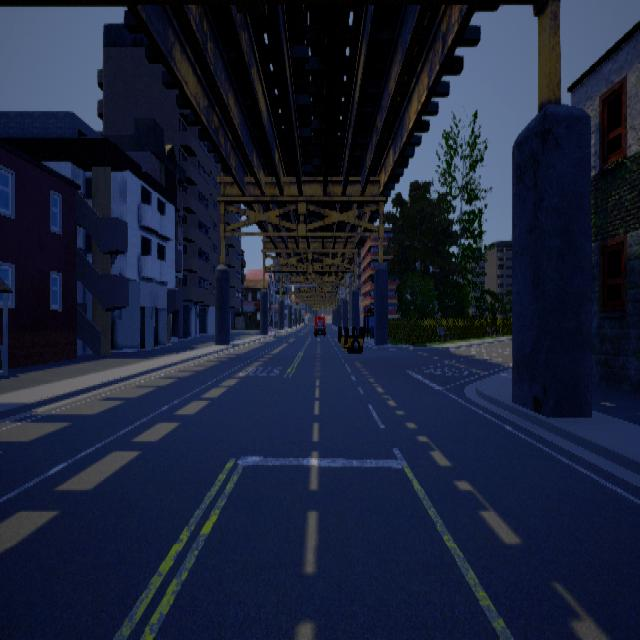vehicle: (337, 325, 364, 352)
